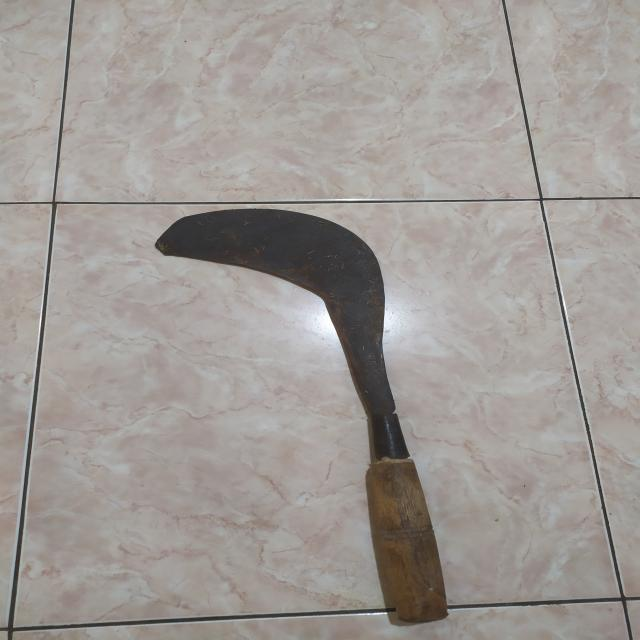Celurit: (155, 206, 451, 623)
